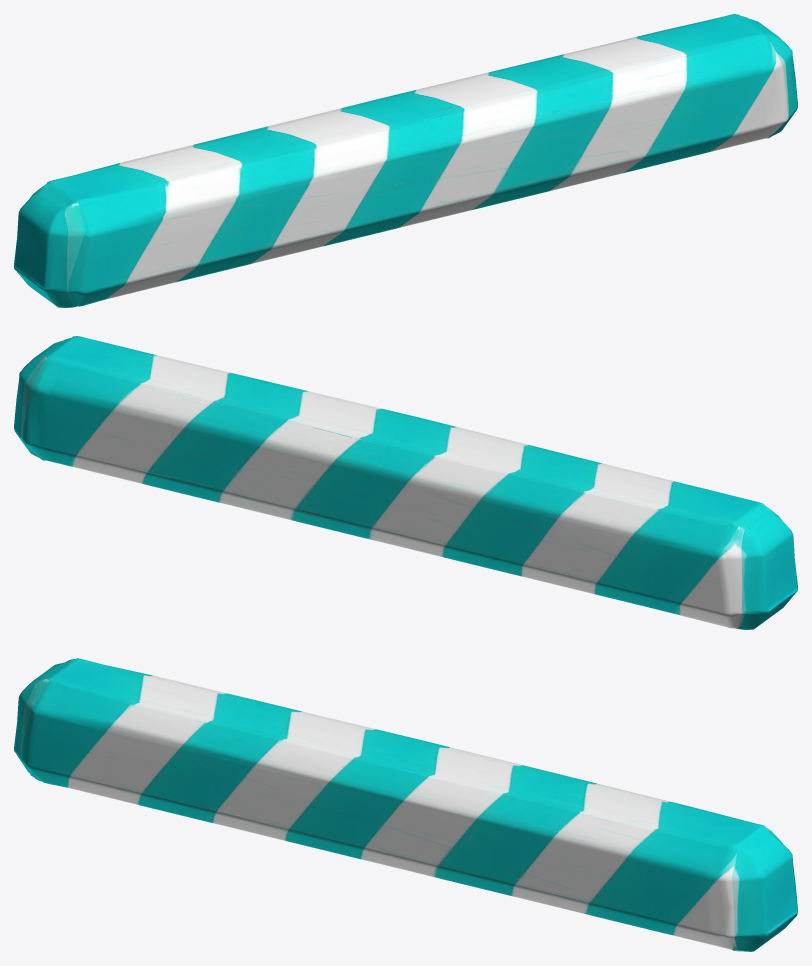
File: obstacle-oscillate.glb
The picture shows the model from 3 angles, top to bottom: view 1: azimuth 30°, elevation 25°; view 2: azimuth 150°, elevation 25°; view 3: azimuth 330°, elevation 25°; orthographic projection.
Size of the model in its own units: 1.91 by 0.2544 by 0.2466.
Materials: 1 (1 with a texture image).
